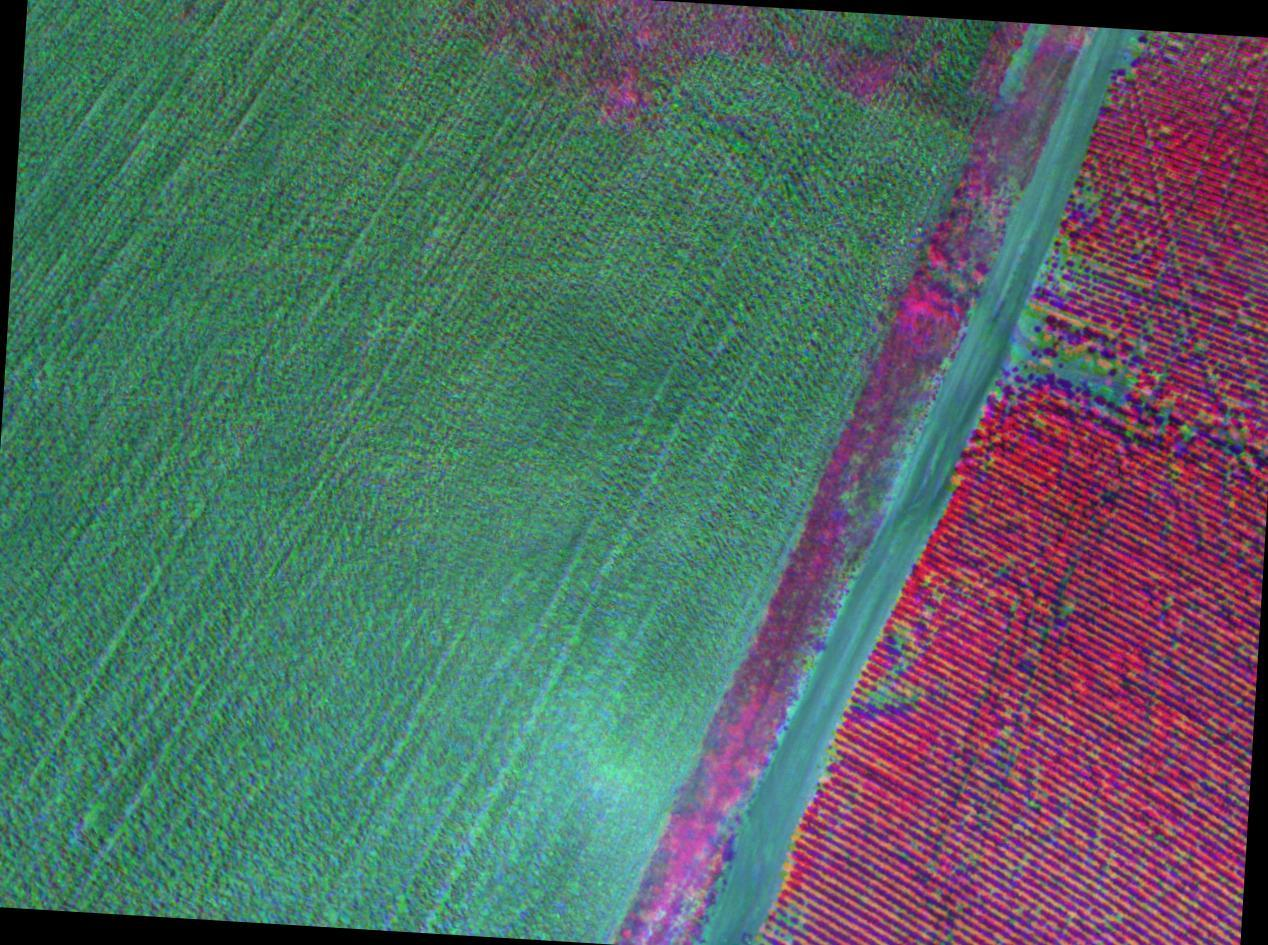dc: (1026, 335, 1034, 344), (1117, 381, 1125, 389), (1068, 360, 1075, 368), (1066, 607, 1071, 612), (1009, 377, 1013, 383), (826, 772, 830, 777), (997, 391, 1001, 395), (926, 578, 930, 582), (881, 688, 885, 692), (1115, 918, 1119, 922)
